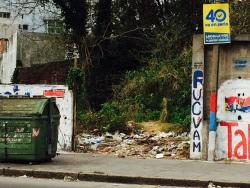Dechets: (78, 132, 189, 157)
Trash: (0, 96, 59, 161)
